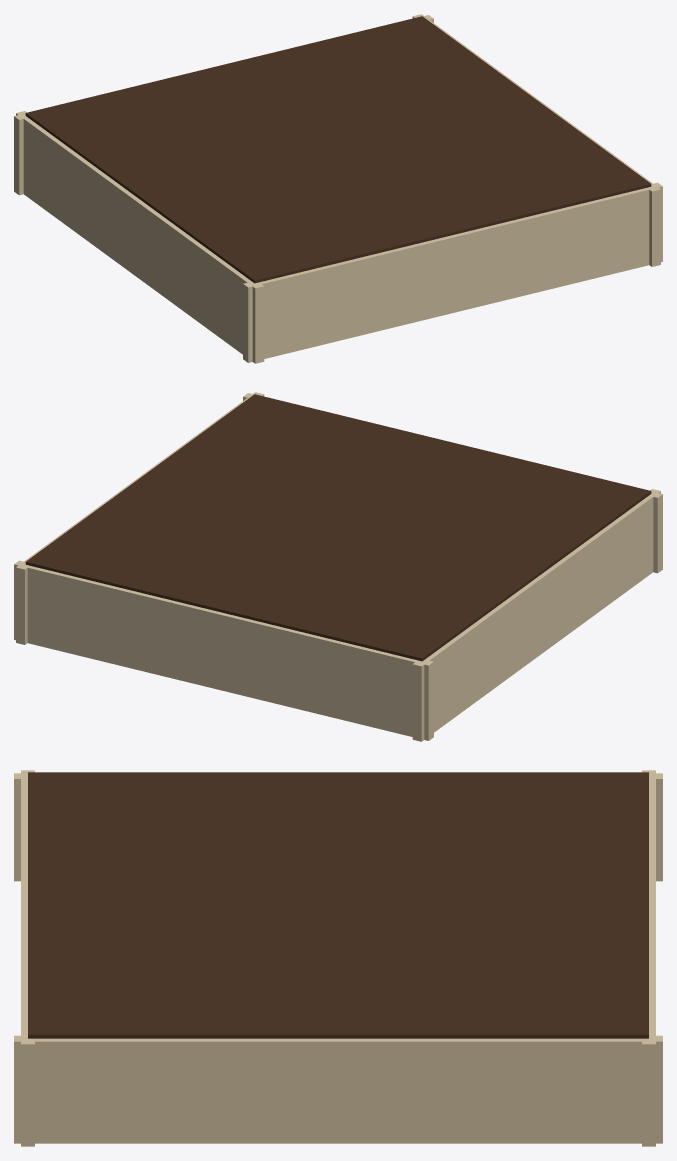
The model's file is elixir.glb.
3 renders of one model, top to bottom at view 1: azimuth 30°, elevation 25°; view 2: azimuth 150°, elevation 25°; view 3: azimuth 270°, elevation 25°, orthographic. The views are drawn at different scales.
Visible parts, largest first — view 1: ceiling, wall; view 2: ceiling, wall; view 3: ceiling, wall.
Part boxes in pixels (box(x1,y1,x2,y2)): ceiling: box(25, 16, 651, 283); wall: box(14, 14, 662, 363); ceiling: box(25, 394, 651, 661); wall: box(14, 392, 662, 741); ceiling: box(28, 772, 648, 1038); wall: box(14, 770, 662, 1146).
Size of the model in its own units: 46 by 8.5 by 46.
